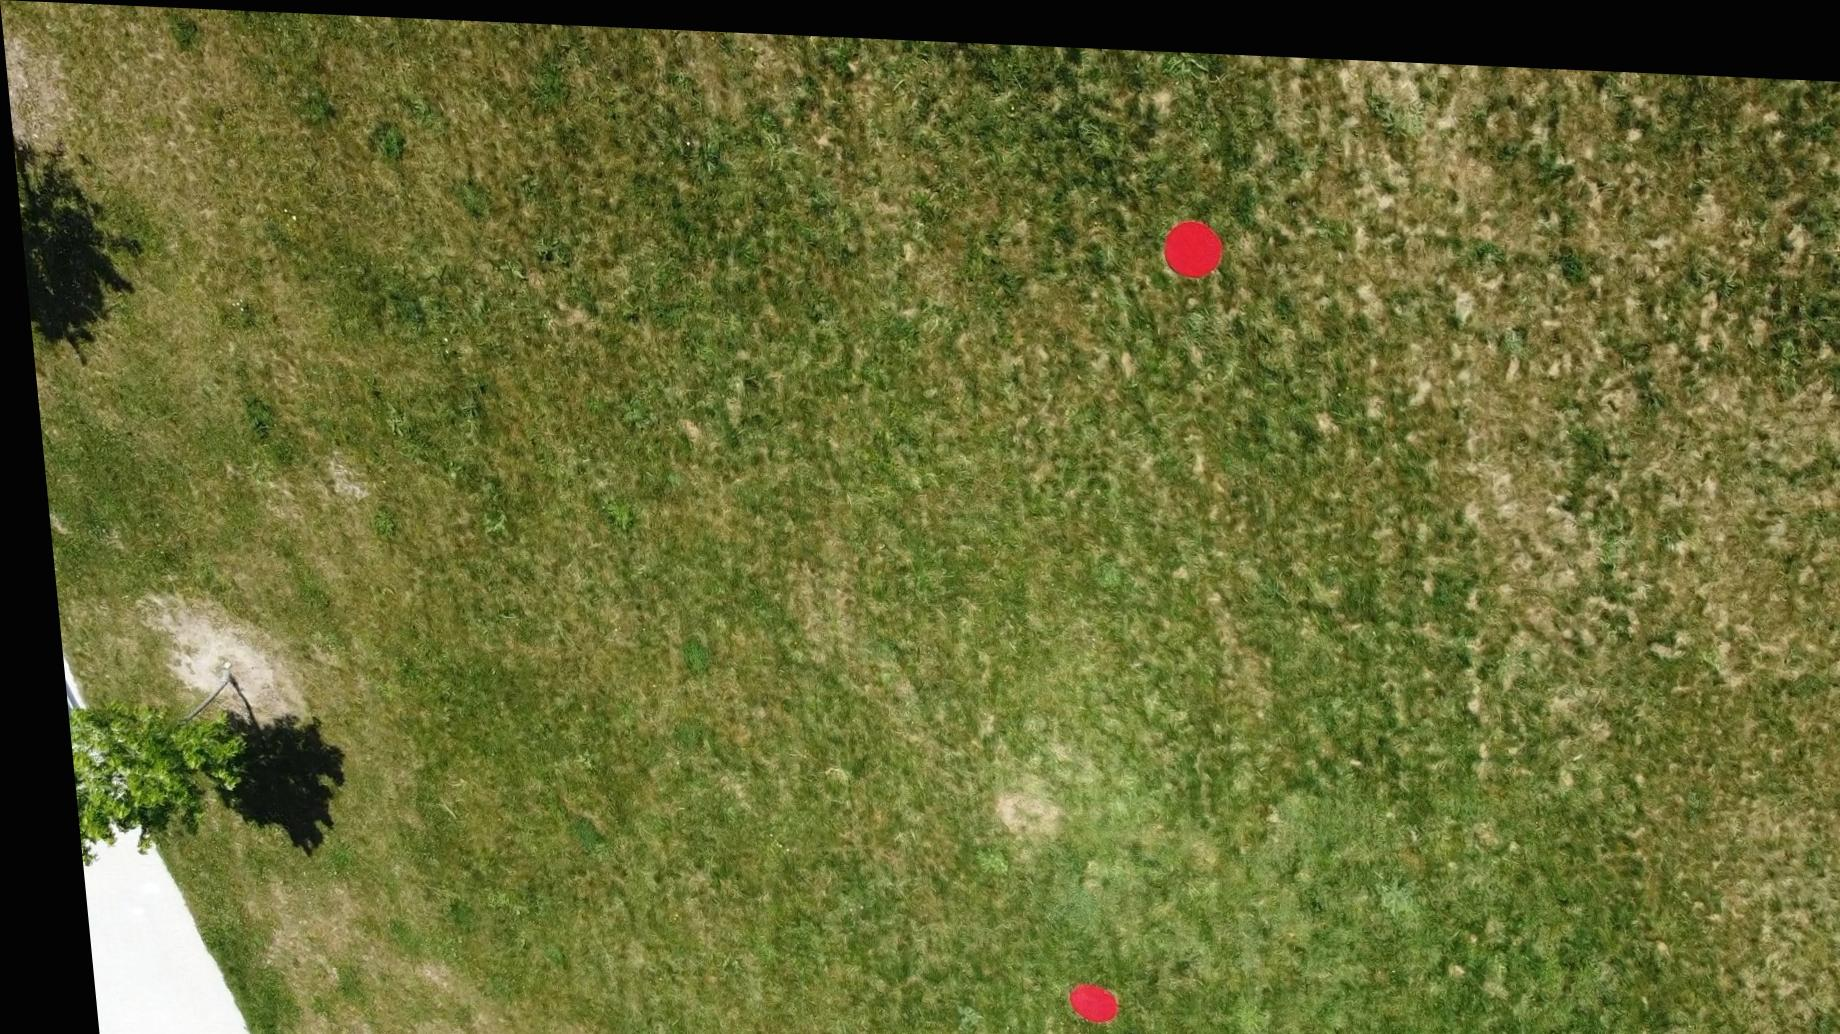Red: (1156, 209, 1223, 269), (1046, 971, 1102, 1016)
